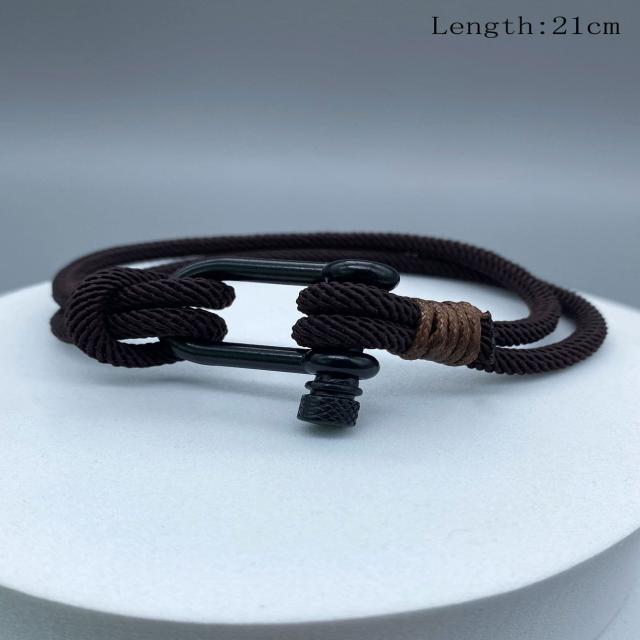bracelet: (16, 173, 640, 534)
